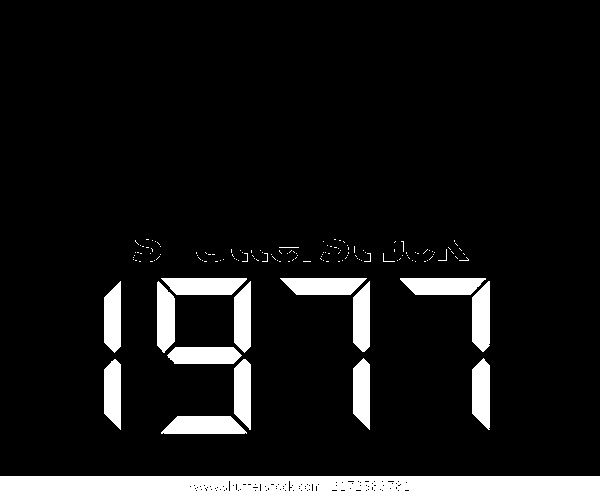nine: (158, 276, 250, 435)
one: (103, 282, 120, 428)
seven: (278, 278, 372, 429), (398, 277, 490, 430)
